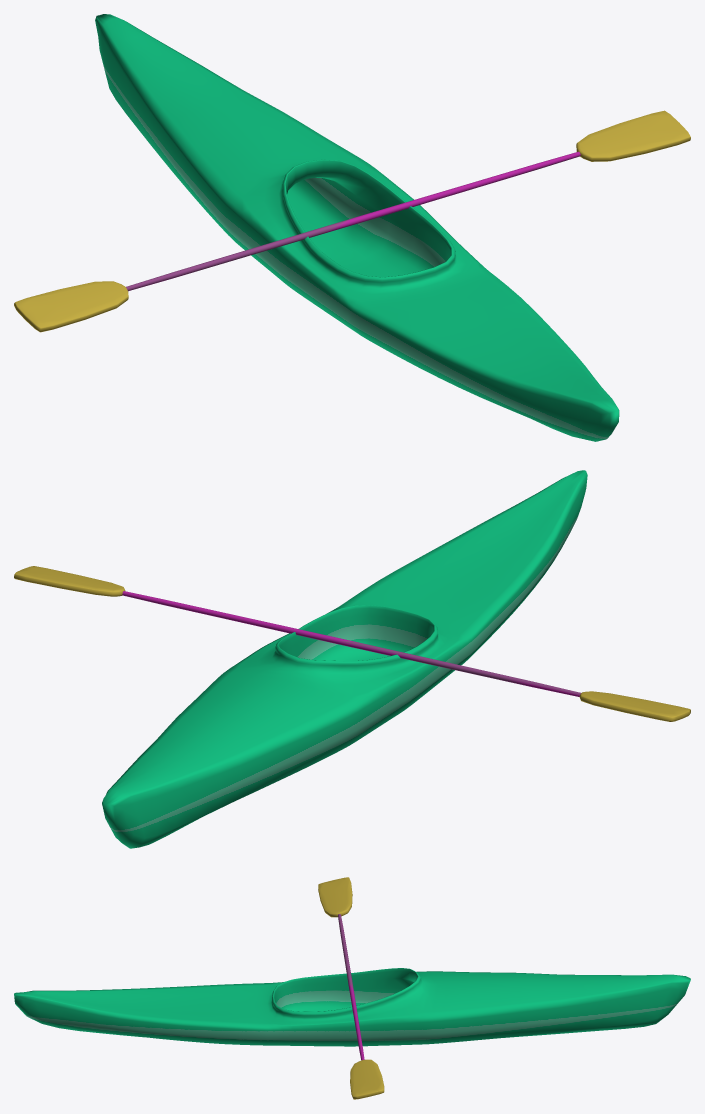
File: kayak@idle.fbx
The picture shows the model from 3 angles, top to bottom: view 1: azimuth 30°, elevation 25°; view 2: azimuth 150°, elevation 25°; view 3: azimuth 270°, elevation 25°; orthographic projection. The views are drawn at different scales.
Parts seen in each view (by area): view 1: kayak_1_:Kayak_polySurface1; view 2: kayak_1_:Kayak_polySurface1; view 3: kayak_1_:Kayak_polySurface1.
Part boxes in pixels (x1=…): kayak_1_:Kayak_polySurface1: x1=14, y1=14, x2=690, y2=441; kayak_1_:Kayak_polySurface1: x1=14, y1=470, x2=690, y2=848; kayak_1_:Kayak_polySurface1: x1=14, y1=877, x2=690, y2=1099.
Bounding box in the file's own units: 14.56 × 1.82 × 19.03.
